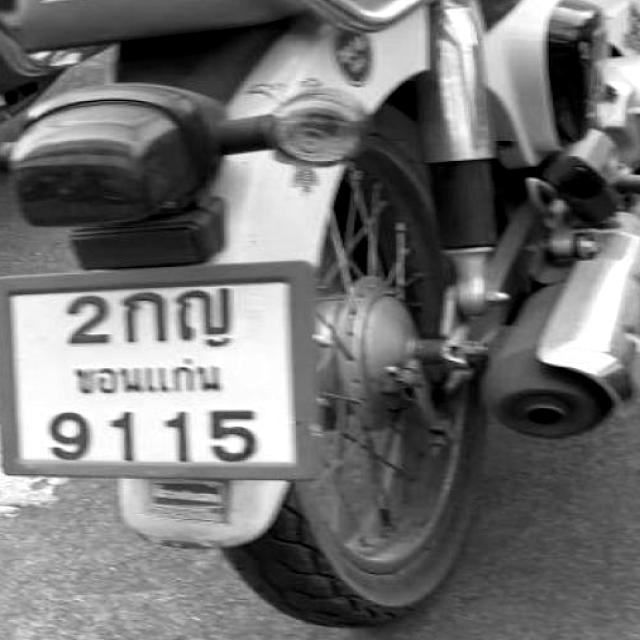letters: (175, 286, 238, 352), (201, 409, 266, 462), (64, 286, 113, 352), (41, 404, 91, 462), (122, 294, 168, 346), (108, 407, 147, 463), (166, 408, 196, 465)
license-plate: (0, 270, 307, 476)
province: (62, 360, 232, 401)
